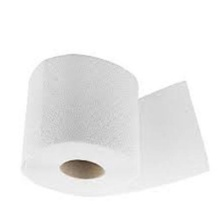tissue: (14, 48, 213, 204)
